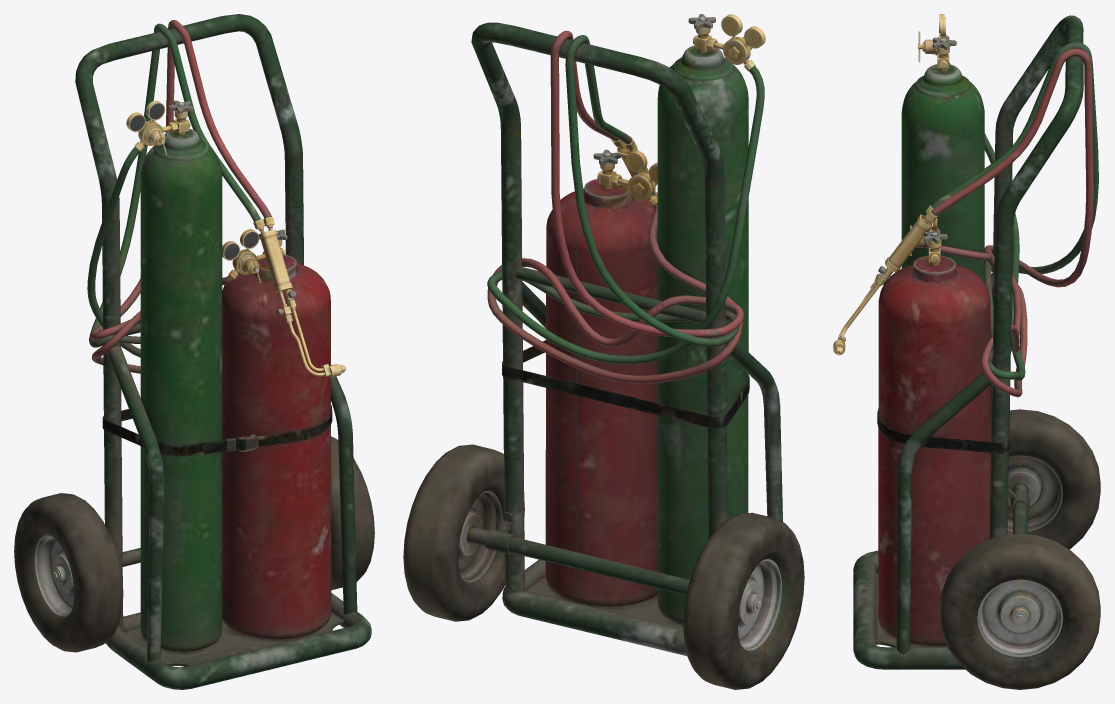
The model's file is welding_cart.glb.
The picture shows the model from 3 angles, left to right: view 1: azimuth 30°, elevation 25°; view 2: azimuth 150°, elevation 25°; view 3: azimuth 270°, elevation 25°; orthographic projection. The views are drawn at different scales.
Parts seen in each view (by area): view 1: portable_welding_cart; view 2: portable_welding_cart; view 3: portable_welding_cart.
Part boxes in pixels (left/top/right/bottom): portable_welding_cart: left=14, top=14, right=374, bottom=689; portable_welding_cart: left=403, top=14, right=804, bottom=689; portable_welding_cart: left=833, top=14, right=1100, bottom=689.
Size of the model in its own units: 0.8383 by 1.56 by 0.6549.
2 materials, 2 textured.
